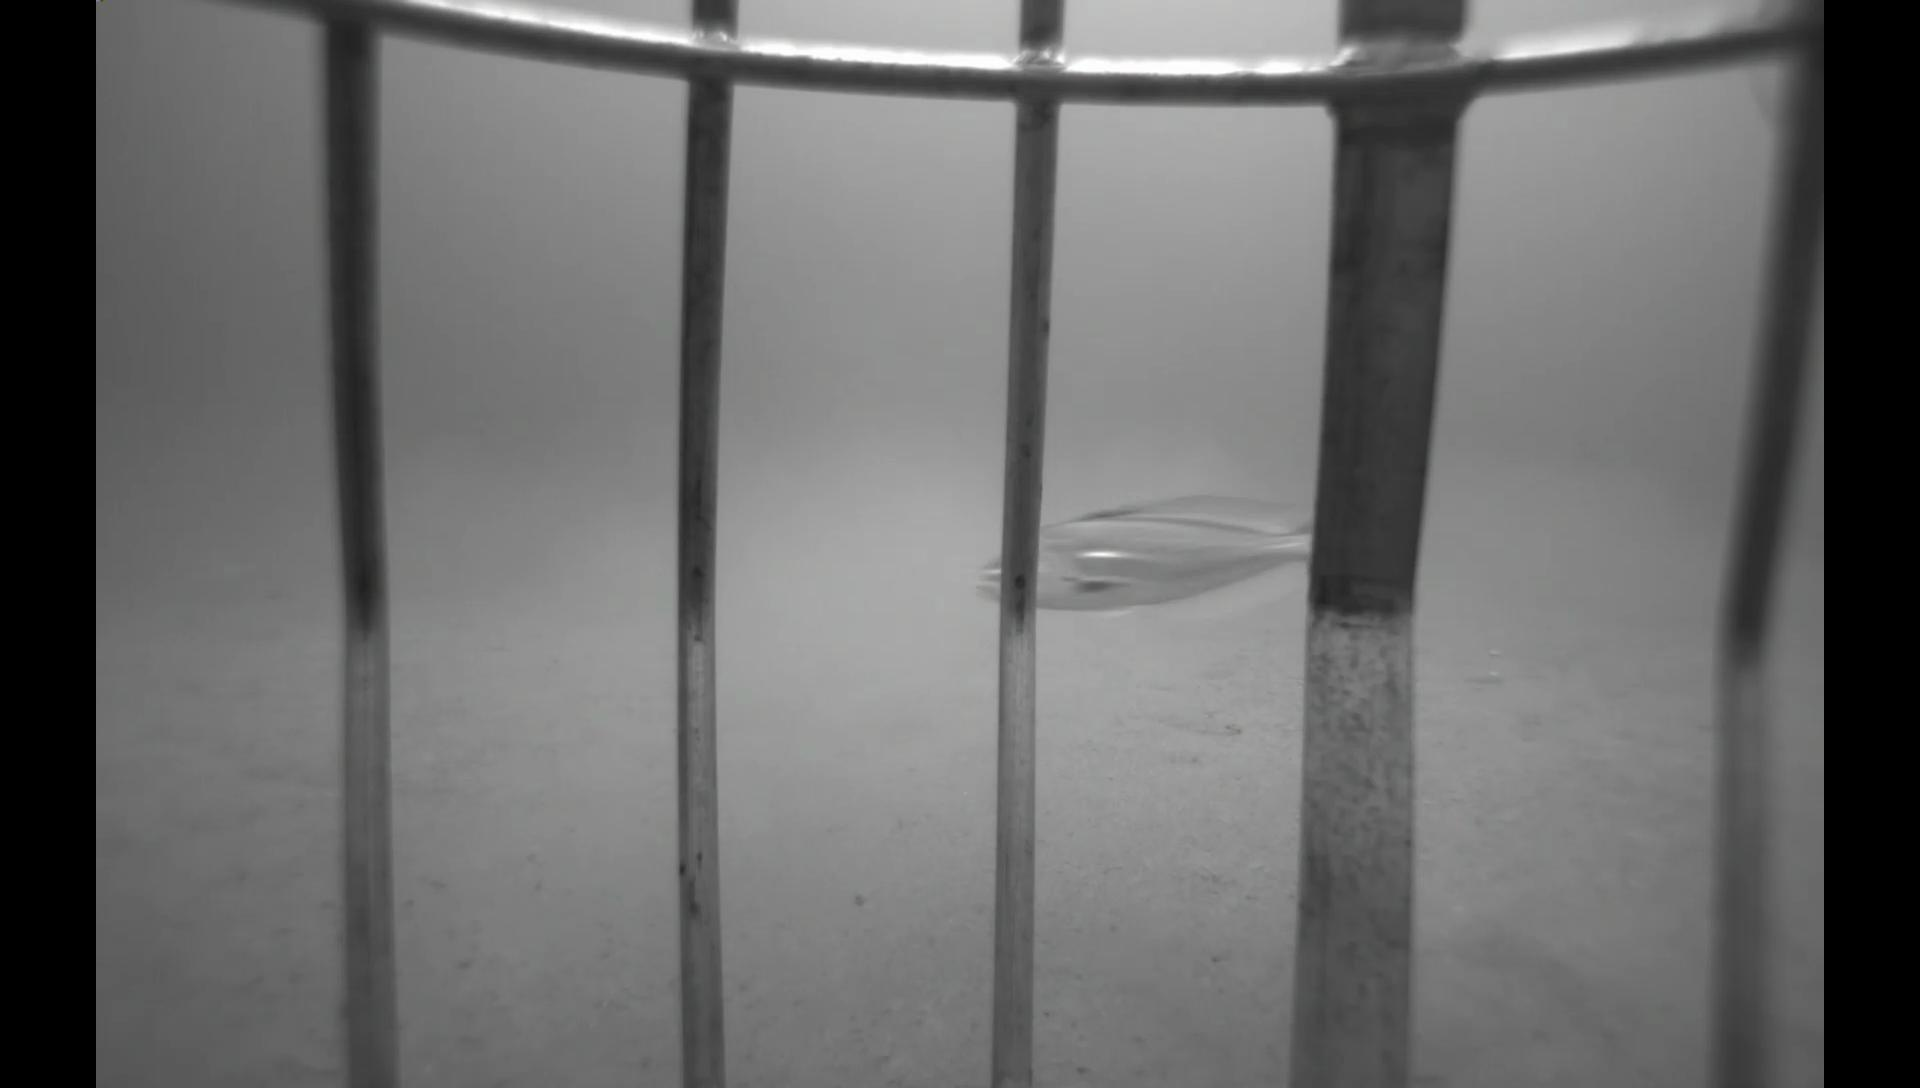CAULOLATILUSCYANOPS-170070101: (963, 488, 1316, 621)
SYACIUM-183011000: (1143, 699, 1249, 742)
